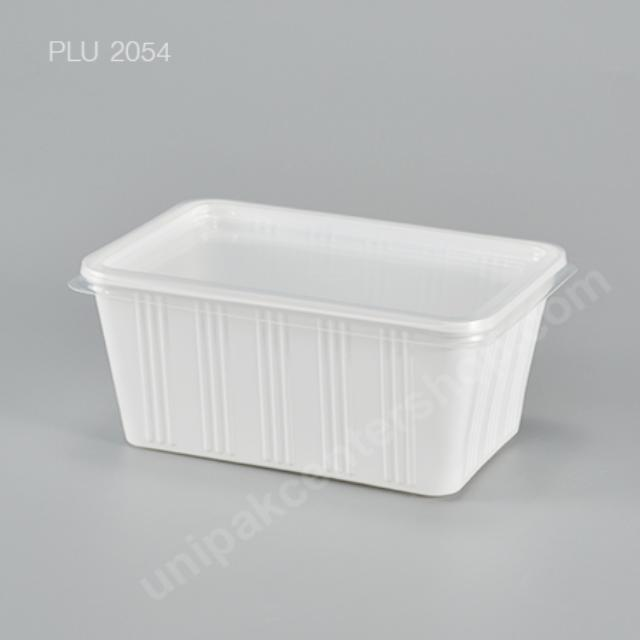Recipiente plastico: (71, 200, 575, 495)
